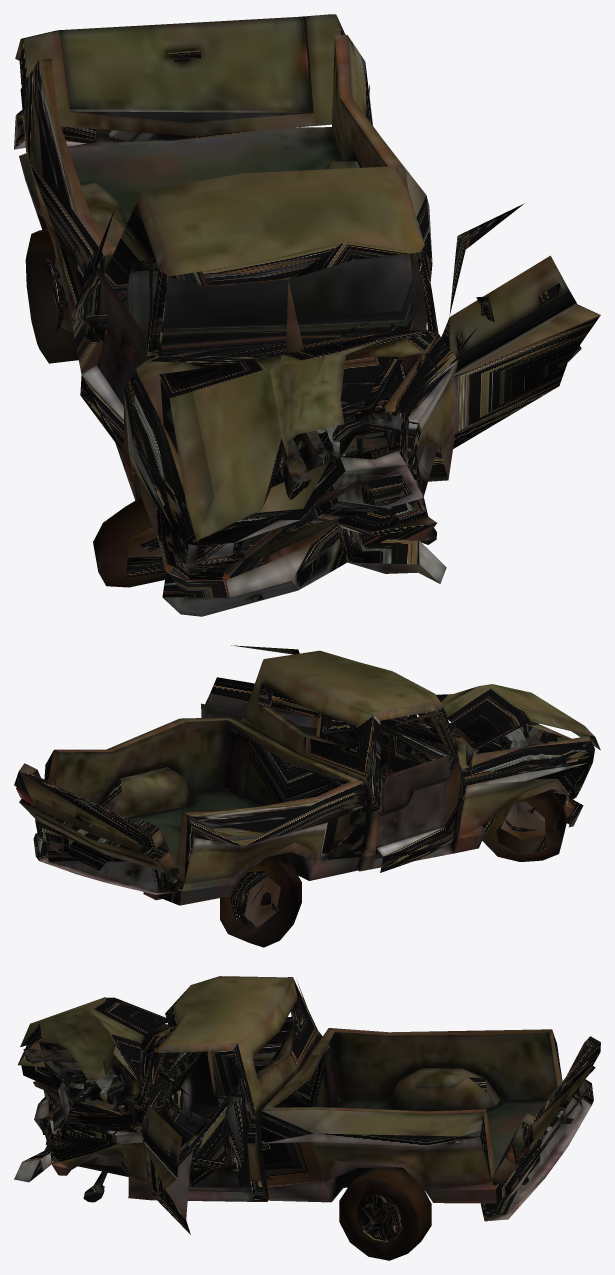
File: crashed-truck.lod0.glb
3 renders of one model, top to bottom at view 1: azimuth 30°, elevation 25°; view 2: azimuth 150°, elevation 25°; view 3: azimuth 270°, elevation 25°, orthographic. The views are drawn at different scales.
Visible parts, largest first — view 1: Object_4; view 2: Object_4; view 3: Object_4.
Boxes of the visible parts, x1,y1,x2,y2 form: Object_4: (14, 14, 600, 616); Object_4: (14, 645, 600, 947); Object_4: (14, 976, 600, 1260).
Bounding box in the file's own units: 4.62 × 2.29 × 6.48.
Materials: 1 (1 with a texture image).
